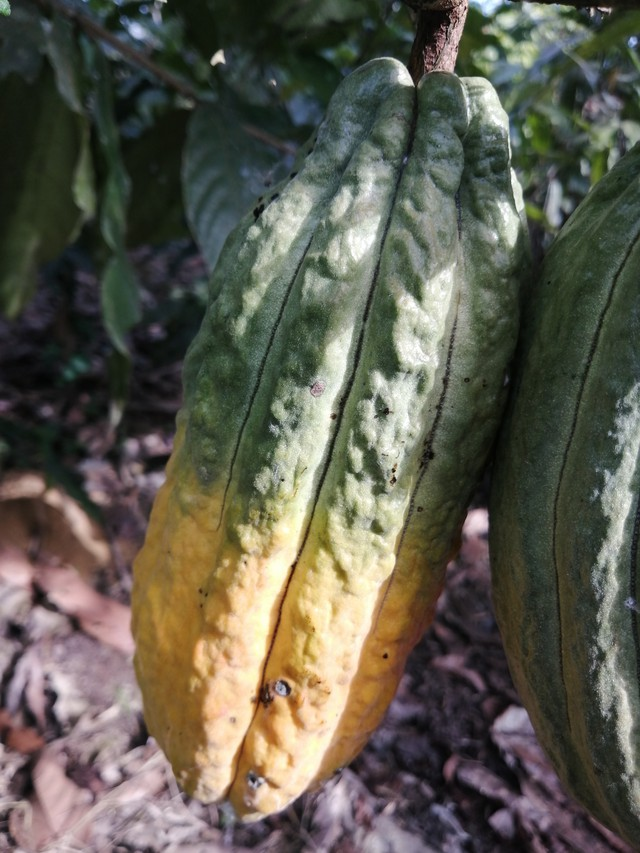moniliophthora perniciosa: (117, 45, 552, 838)
